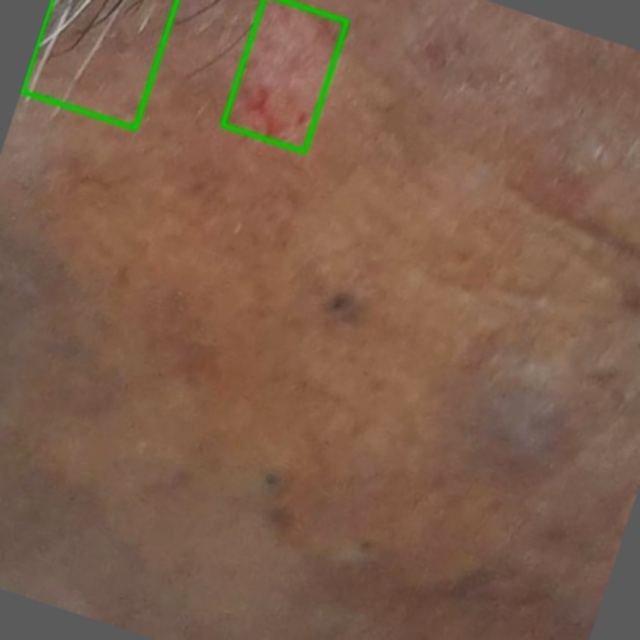Contact Dermatitis: (222, 0, 346, 151)
